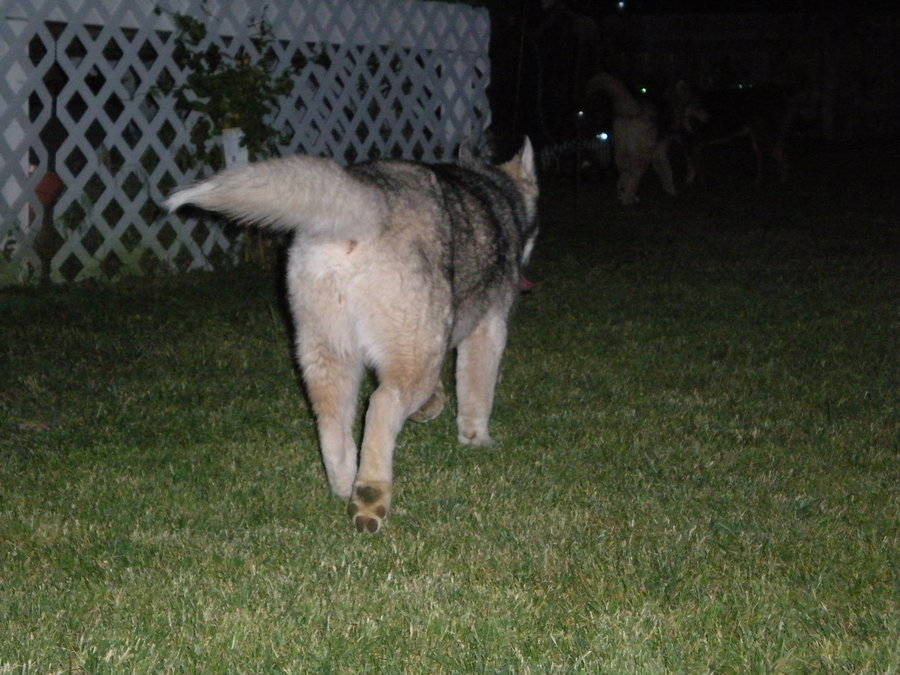dog: (151, 133, 547, 543), (658, 61, 810, 186), (592, 70, 709, 217)
